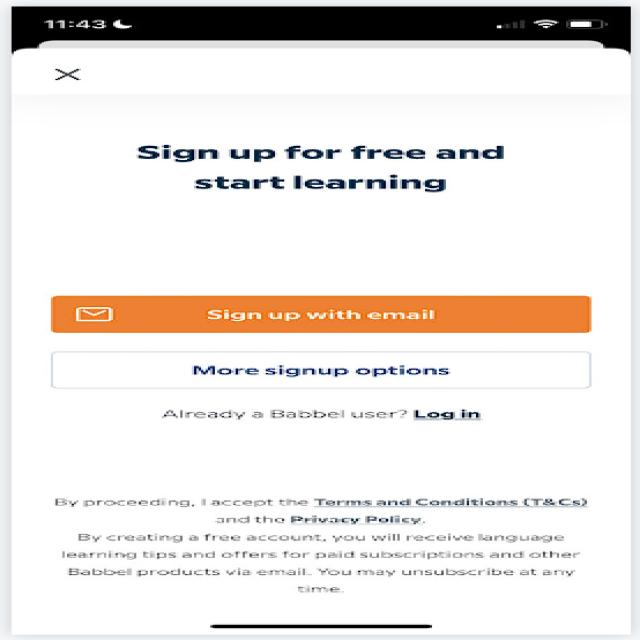button: (38, 341, 618, 395), (38, 289, 609, 339)
icon button: (50, 62, 105, 88)
spacer: (32, 195, 608, 285)
text: (32, 488, 620, 597), (27, 420, 616, 482), (110, 133, 534, 194)
